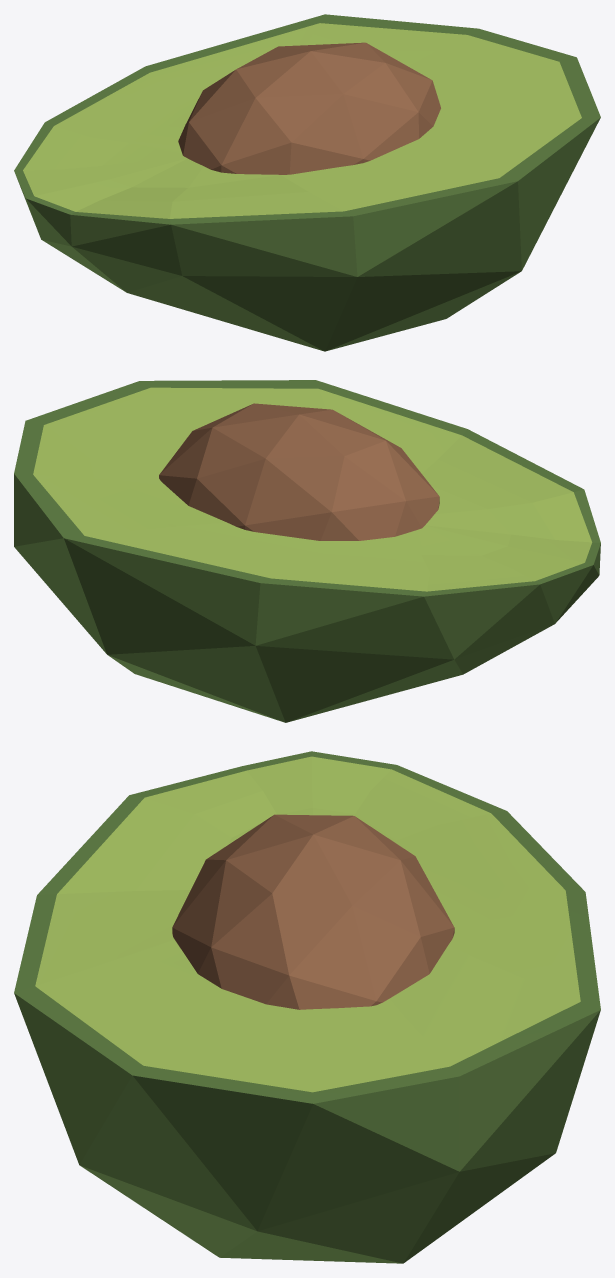
The model's file is Avocado_01.fbx.
3 renders of one model, top to bottom at view 1: azimuth 30°, elevation 25°; view 2: azimuth 150°, elevation 25°; view 3: azimuth 270°, elevation 25°, orthographic. The views are drawn at different scales.
Visible parts, largest first — view 1: Avocado_01; view 2: Avocado_01; view 3: Avocado_01.
Part boxes in pixels (x1,y1,x2,y2): Avocado_01: [14, 14, 600, 351]; Avocado_01: [14, 380, 600, 722]; Avocado_01: [14, 751, 600, 1263].
Size of the model in its own units: 11.59 by 5.37 by 7.97.
